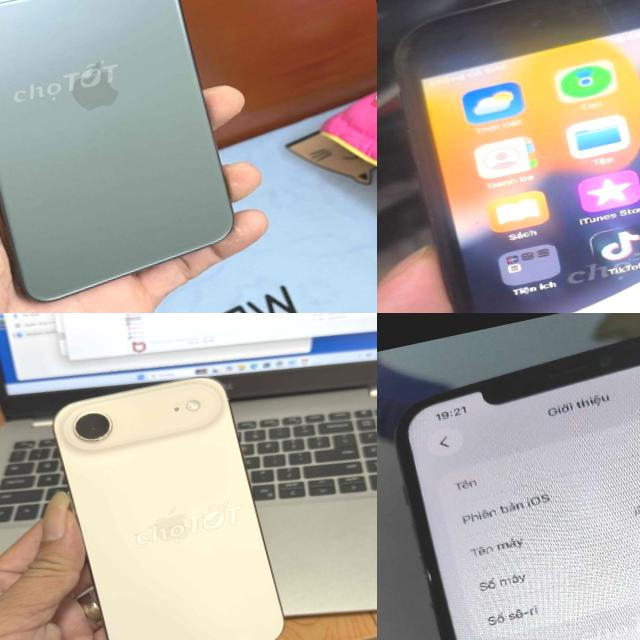gen_11: (377, 313, 640, 640), (0, 0, 263, 312)
gen_17: (45, 357, 300, 640)
gen_7_8: (396, 0, 640, 313)
